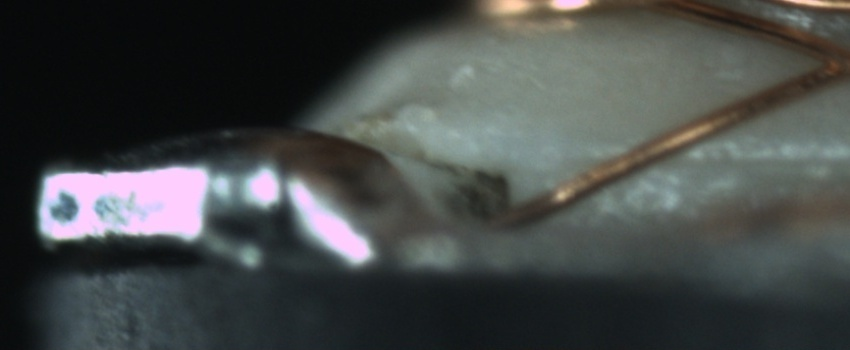CL: (799, 29, 850, 89)
DL: (564, 127, 850, 187)
